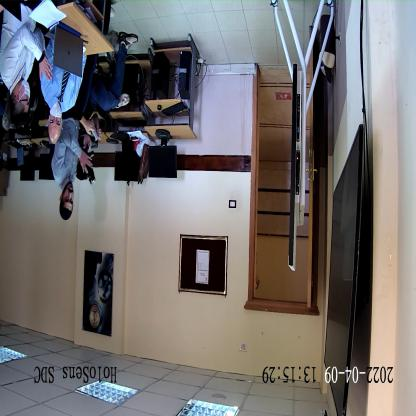handgun: (77, 137, 94, 186)
